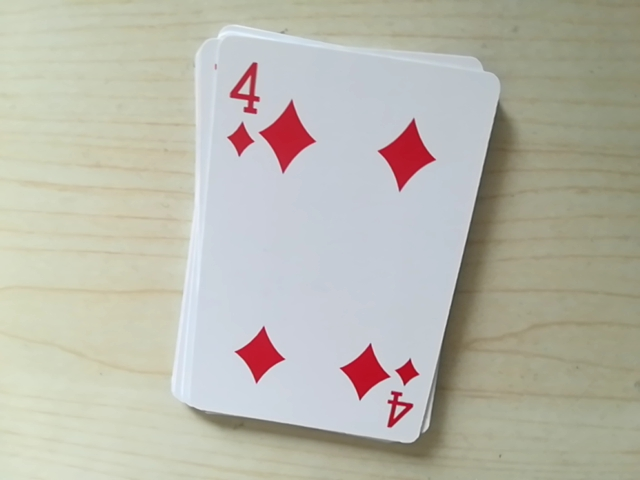fk 4: (212, 49, 272, 174), (374, 359, 424, 432)
